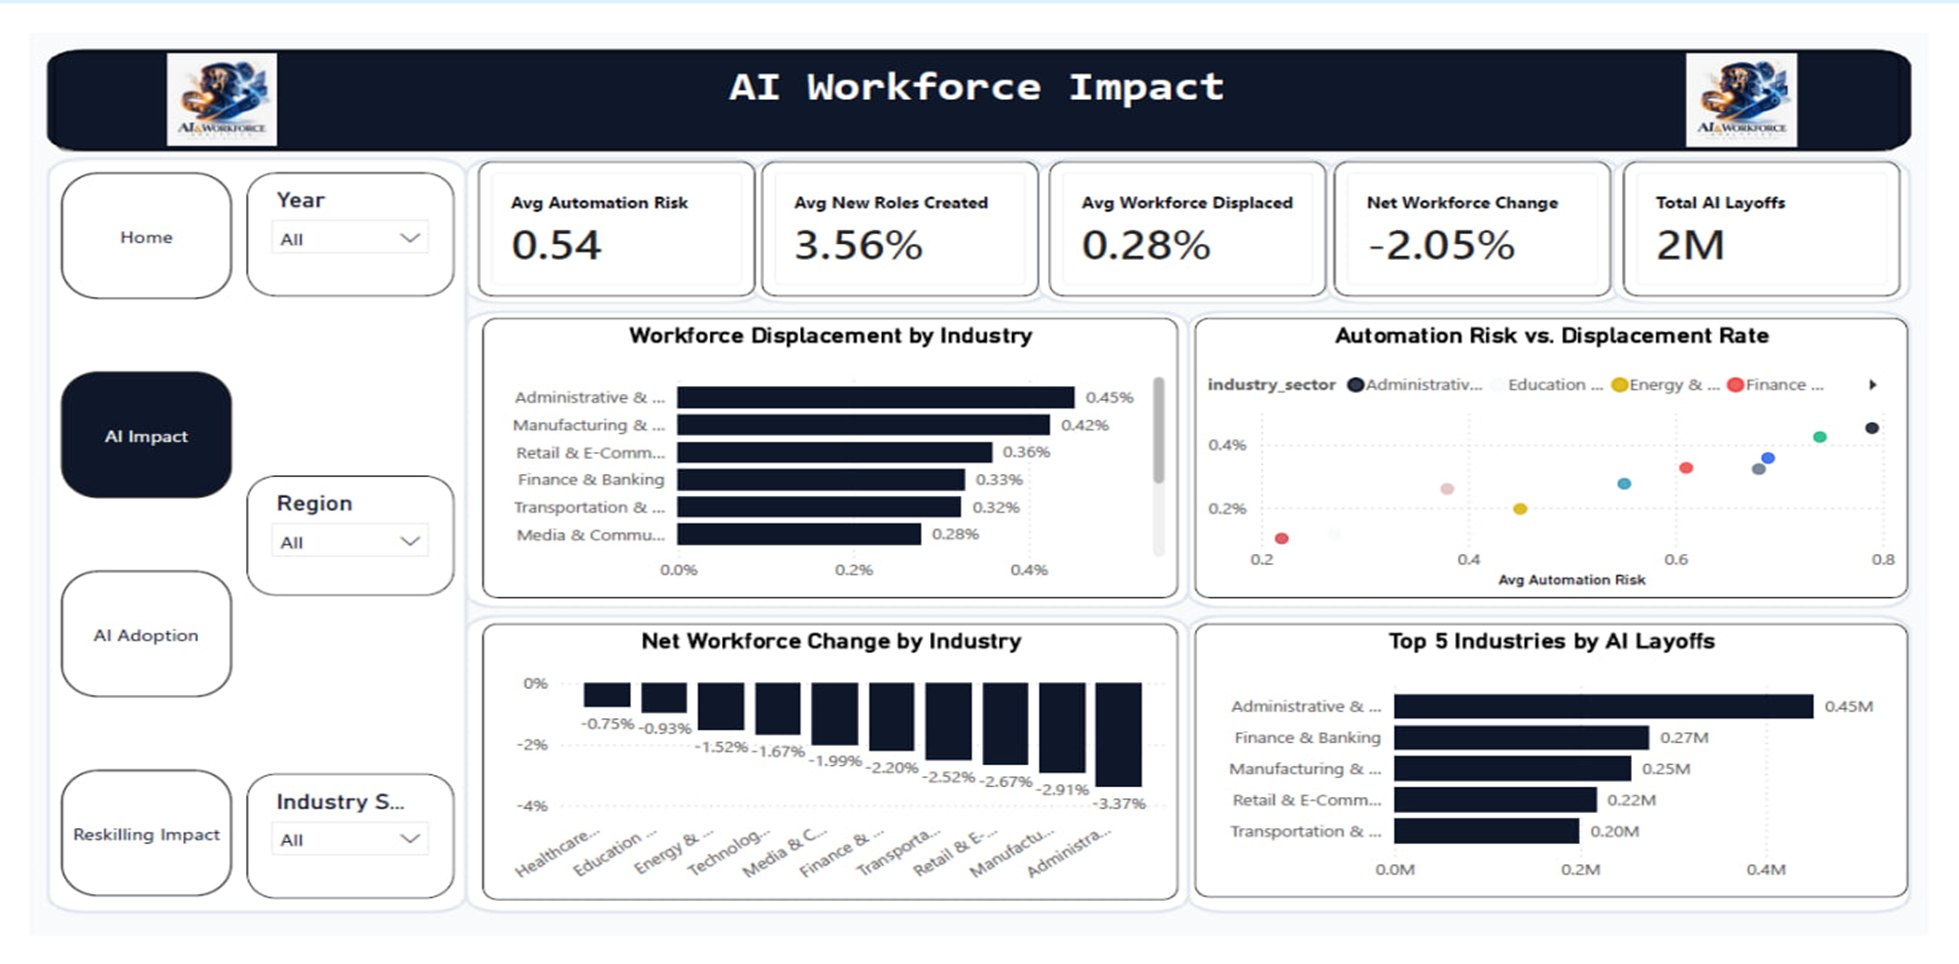

The page's visual inventory and layout, read from the dashboard file:
{"tool":"powerbi","page":{"name":"AI Impact","canvas":[1280,720],"ordinal":1},"visuals":[{"type":"clusteredBarChart","title":"Workforce Displacement by Industry","fields":{"Y":["Measures 1.Avg Workforce Displaced"],"Category":["ai_workforce_displacement_clean.industry_sector"]},"box":[304.7,226.8,469.1,223.9],"z":0},{"type":"cardVisual","fields":{"Data":["Measures 1.Total AI Layoffs"]},"box":[1074.3,102,187.1,107.7],"z":1000},{"type":"scatterChart","title":"Automation Risk vs. Displacement Rate","fields":{"X":["Measures 1.Avg Automation Risk"],"Y":["Measures 1.Avg Workforce Displaced"],"Series":["ai_workforce_displacement_clean.industry_sector"]},"box":[785.2,226.8,480.5,223.9],"z":2000},{"type":"textbox","box":[15.7,15,1245.7,78.6],"z":3000},{"type":"image","box":[1100,15.7,107.1,74.3],"z":4000},{"type":"pageNavigator","box":[15.7,111.4,120,580],"z":5000},{"type":"slicer","fields":{"Values":["ai_workforce_displacement_clean.year"]},"box":[145.7,111.4,140,98.6],"z":6000},{"type":"slicer","fields":{"Values":["ai_workforce_displacement_clean.region"]},"box":[145.7,352.9,140,95.7],"z":7000},{"type":"slicer","fields":{"Values":["ai_workforce_displacement_clean.industry_sector"]},"box":[145.7,591.4,140,100],"z":8000},{"type":"cardVisual","fields":{"Data":["Measures 1.Net Workforce Change"]},"box":[878.7,102,187.1,107.7],"z":9000},{"type":"cardVisual","fields":{"Data":["Measures 1.Avg Workforce Displaced"]},"box":[687.4,102,187.1,107.7],"z":10000},{"type":"cardVisual","fields":{"Data":["Measures 1.Avg New Roles Created"]},"box":[493.2,102,187.1,107.7],"z":11000},{"type":"cardVisual","fields":{"Data":["Measures 1.Avg Automation Risk"]},"box":[301.9,102,187.1,107.7],"z":12000},{"type":"clusteredColumnChart","title":"Net Workforce Change by Industry","fields":{"Category":["ai_workforce_displacement_clean.industry_sector"],"Y":["Measures 1.Net Workforce Change"]},"box":[304.7,470.6,469.1,221.1],"z":13000},{"type":"clusteredBarChart","title":"Top 5 Industries by AI Layoffs","fields":{"Category":["ai_workforce_displacement_clean.industry_sector"],"Y":["Measures 1.Total AI Layoffs"]},"box":[785.2,470.6,480.5,219.7],"z":14000},{"type":"image","box":[75.1,15.6,107.7,73.7],"z":15000}]}

Visuals, with their boxes on the page's 1280x720 design canvas (x1, y1, x2, y2). These are canvas units, not pixel positions in the 1959x964 screenshot, which may show the page scaled, cropped or inside an application window:
"Workforce Displacement by Industry" clusteredBarChart: pyautogui.locateOnScreen(305, 227, 774, 451)
cardVisual - Measures 1.Total AI Layoffs: pyautogui.locateOnScreen(1074, 102, 1261, 210)
"Automation Risk vs. Displacement Rate" scatterChart: pyautogui.locateOnScreen(785, 227, 1266, 451)
textbox: pyautogui.locateOnScreen(16, 15, 1261, 94)
image: pyautogui.locateOnScreen(1100, 16, 1207, 90)
pageNavigator: pyautogui.locateOnScreen(16, 111, 136, 691)
slicer - ai_workforce_displacement_clean.year: pyautogui.locateOnScreen(146, 111, 286, 210)
slicer - ai_workforce_displacement_clean.region: pyautogui.locateOnScreen(146, 353, 286, 449)
slicer - ai_workforce_displacement_clean.industry_sector: pyautogui.locateOnScreen(146, 591, 286, 691)
cardVisual - Measures 1.Net Workforce Change: pyautogui.locateOnScreen(879, 102, 1066, 210)
cardVisual - Measures 1.Avg Workforce Displaced: pyautogui.locateOnScreen(687, 102, 874, 210)
cardVisual - Measures 1.Avg New Roles Created: pyautogui.locateOnScreen(493, 102, 680, 210)
cardVisual - Measures 1.Avg Automation Risk: pyautogui.locateOnScreen(302, 102, 489, 210)
"Net Workforce Change by Industry" clusteredColumnChart: pyautogui.locateOnScreen(305, 471, 774, 692)
"Top 5 Industries by AI Layoffs" clusteredBarChart: pyautogui.locateOnScreen(785, 471, 1266, 690)
image: pyautogui.locateOnScreen(75, 16, 183, 89)
